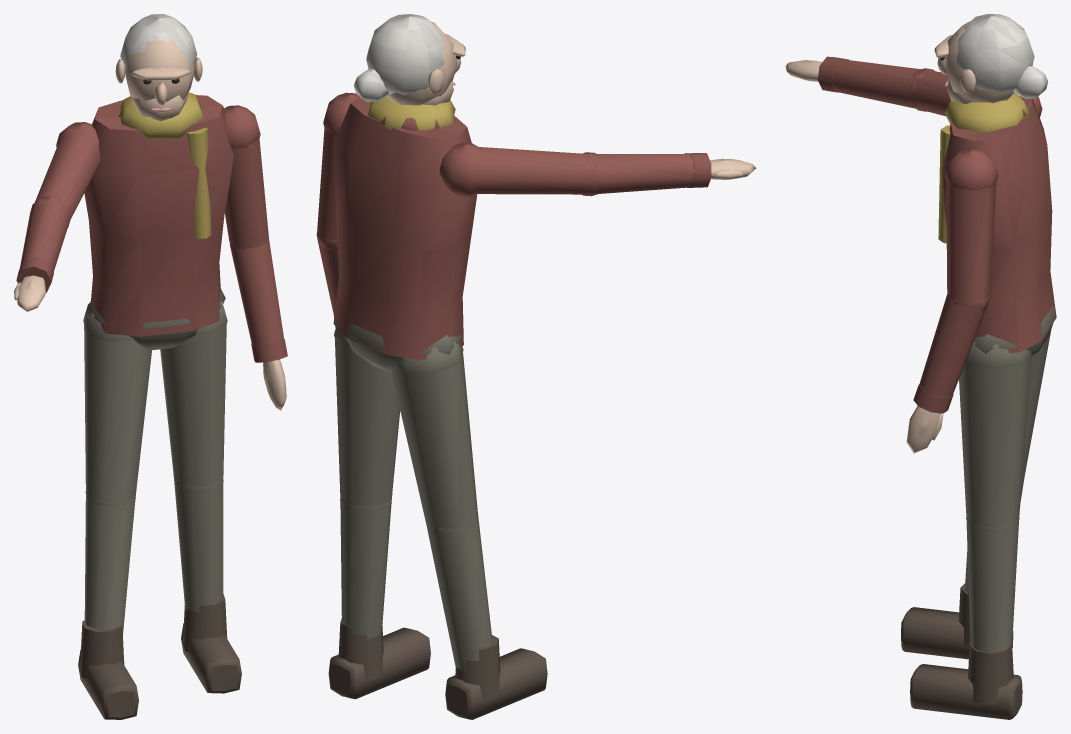
File: crowd_point_a_b.glb
3 renders of one model, left to right at view 1: azimuth 30°, elevation 25°; view 2: azimuth 150°, elevation 25°; view 3: azimuth 270°, elevation 25°, orthographic. The views are drawn at different scales.
Parts seen in each view (by area): view 1: body; view 2: body; view 3: body.
Boxes of the visible parts, x1,y1,x2,y2 form: body: (14, 14, 287, 719); body: (316, 14, 756, 719); body: (785, 14, 1056, 719).
Size of the model in its own units: 0.8849 by 1.67 by 0.6096.
